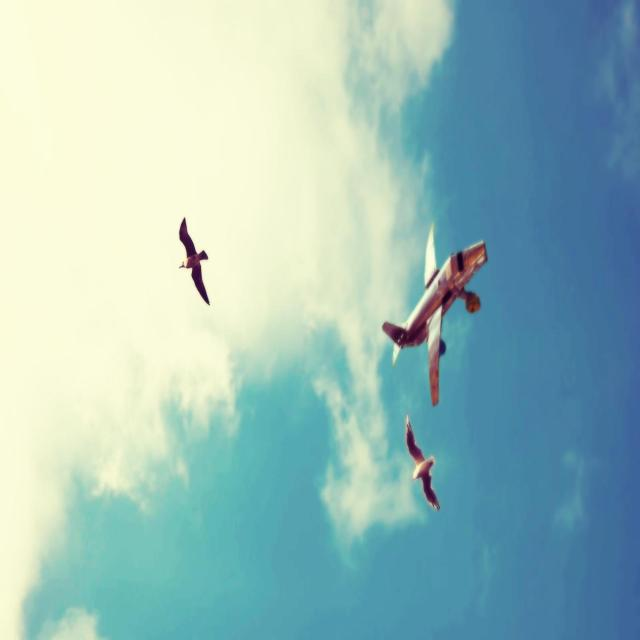airplane: (382, 222, 488, 406)
